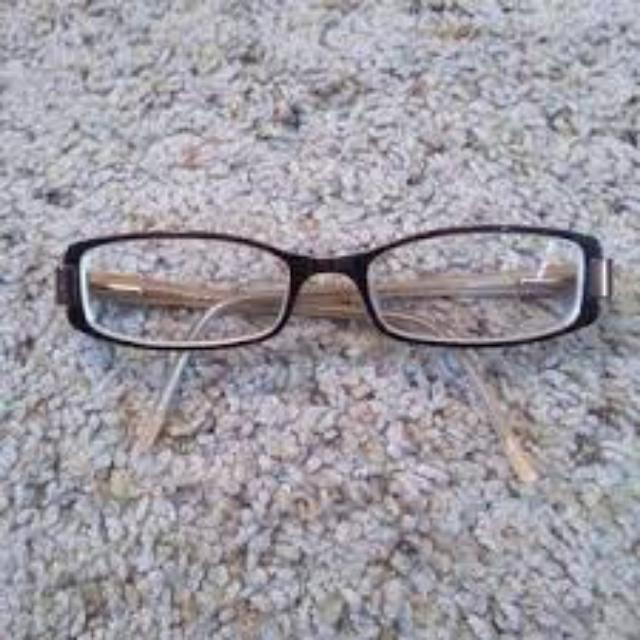glasses: (51, 220, 613, 456)
